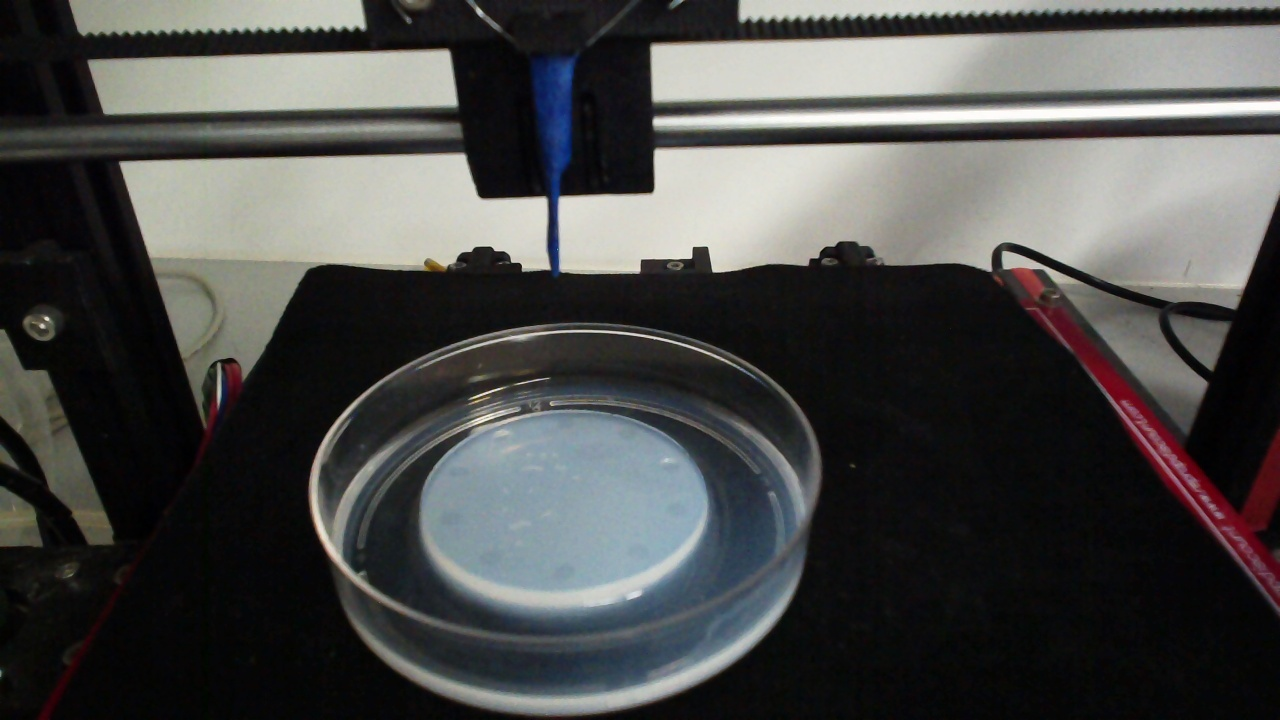groove: (624, 538, 649, 561), (479, 547, 505, 569), (437, 506, 463, 528), (552, 562, 581, 580), (665, 498, 689, 519), (614, 423, 637, 442), (658, 456, 682, 473), (555, 414, 576, 432), (447, 464, 472, 478), (492, 427, 512, 443)
needle: (535, 61, 572, 275)
